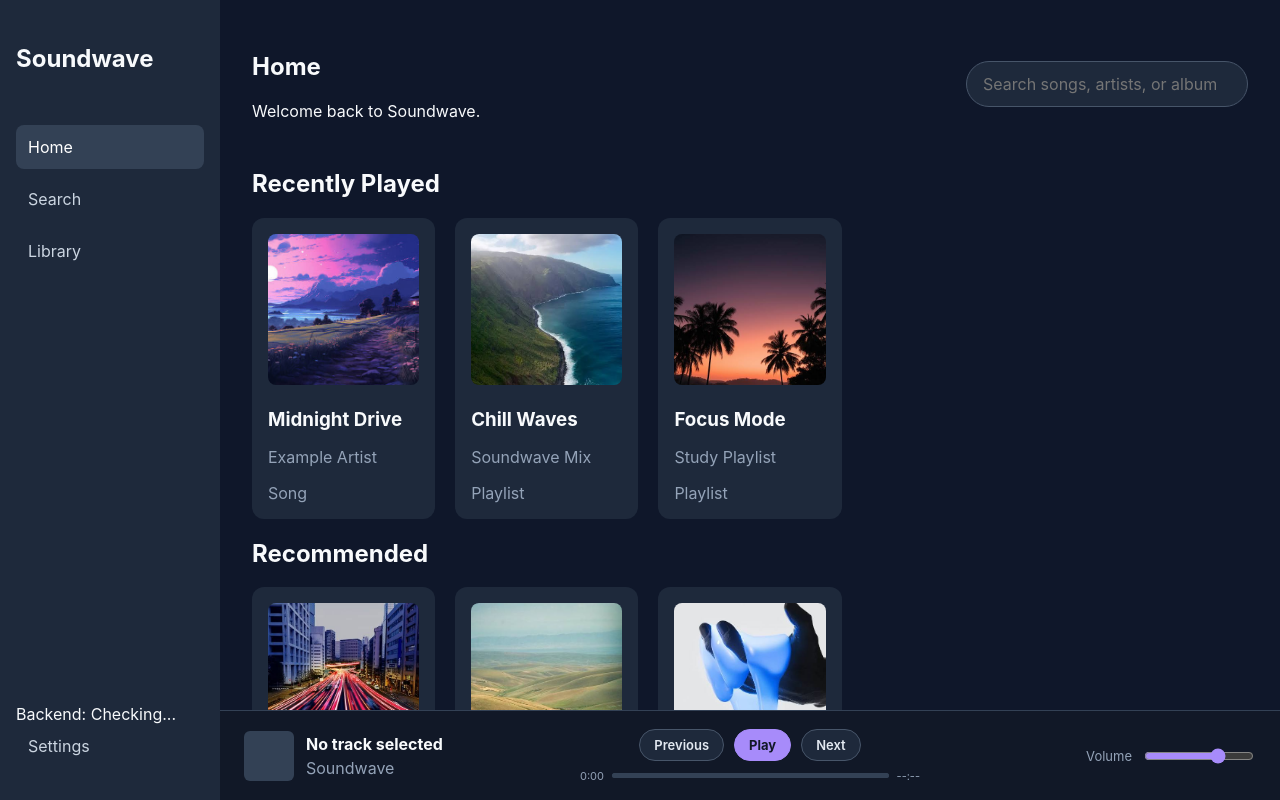
Test: App search navigation › preserves Home search input after visiting Library
// Type without submitting the search.
Type "hello" into the search field named "Search music". click: (1107, 84)
box: [966, 61, 1248, 107]
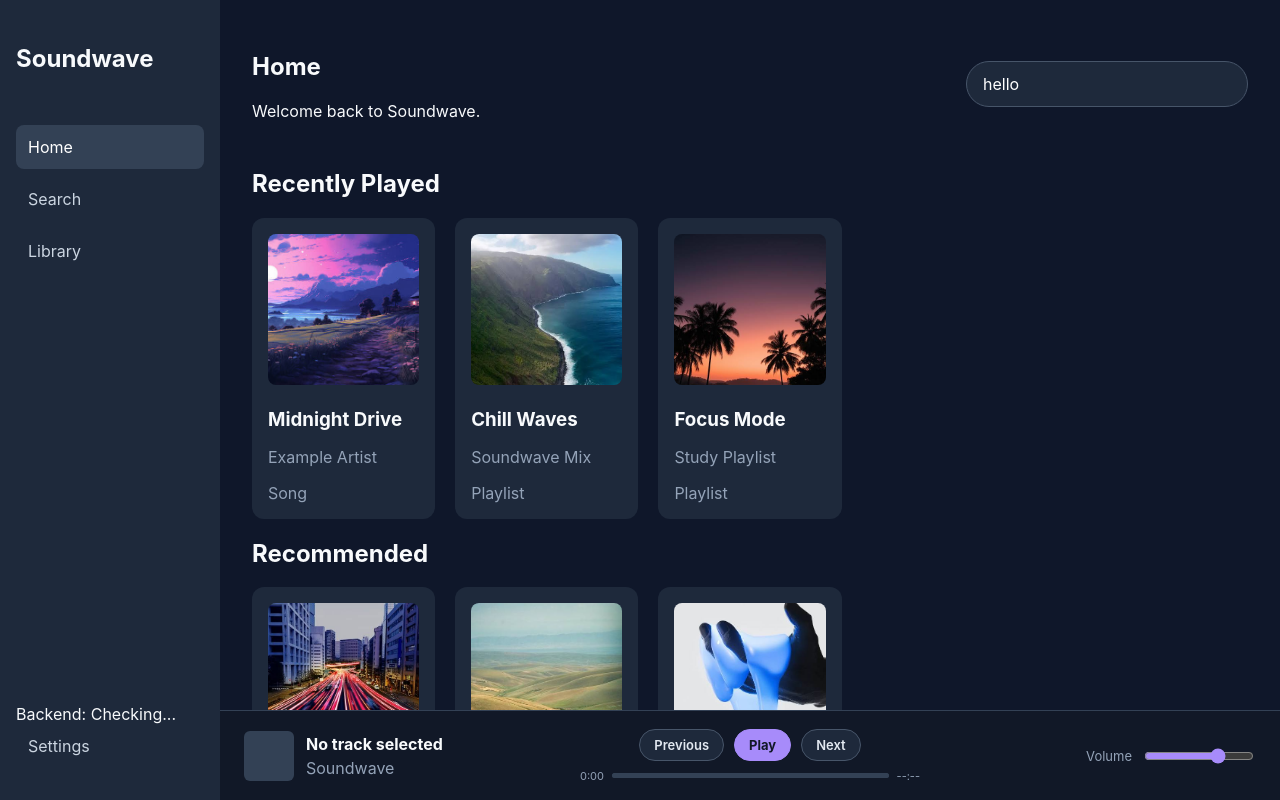
// Leave Home and return.
Click the button "Library". click: (110, 251)
box: [16, 229, 204, 273]
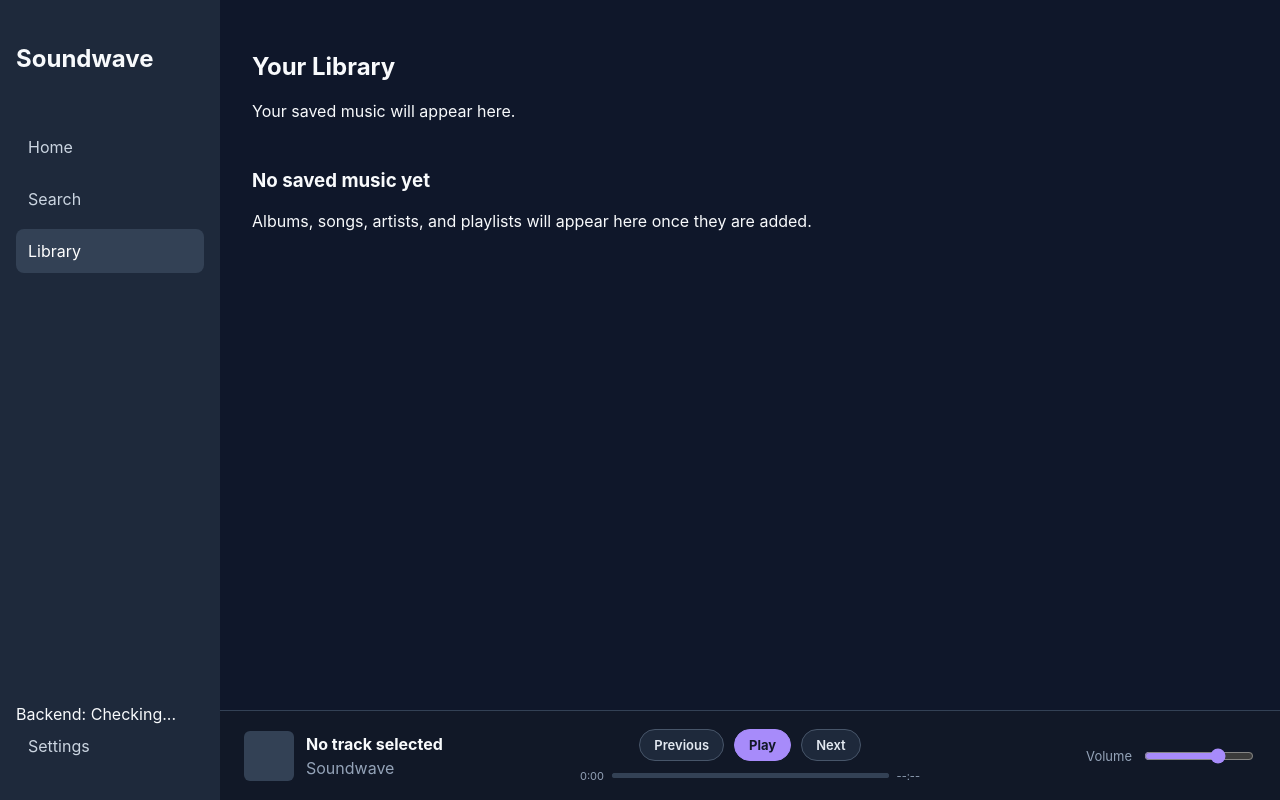
Click the button "Home". click: (110, 147)
box: [16, 125, 204, 169]
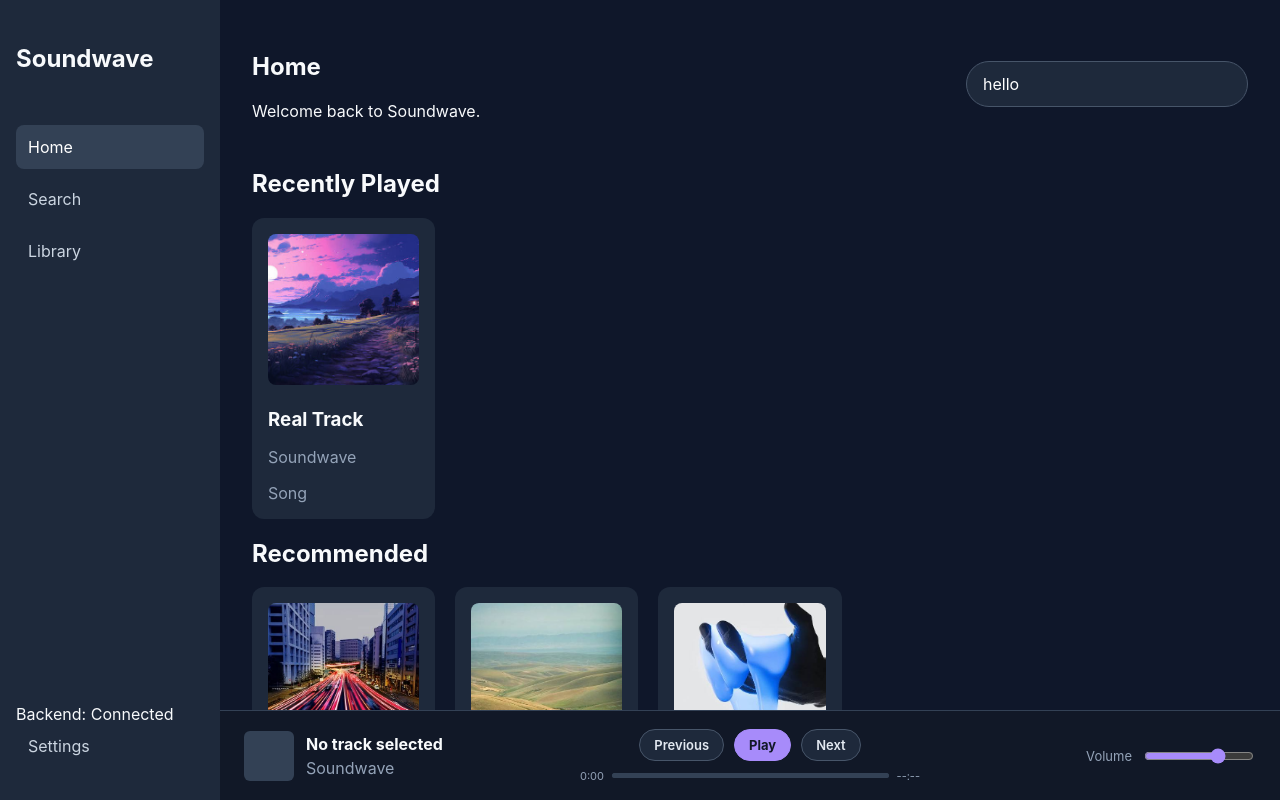
Check: the search field named "Search music" holds "hello", box [966, 61, 1248, 107]
